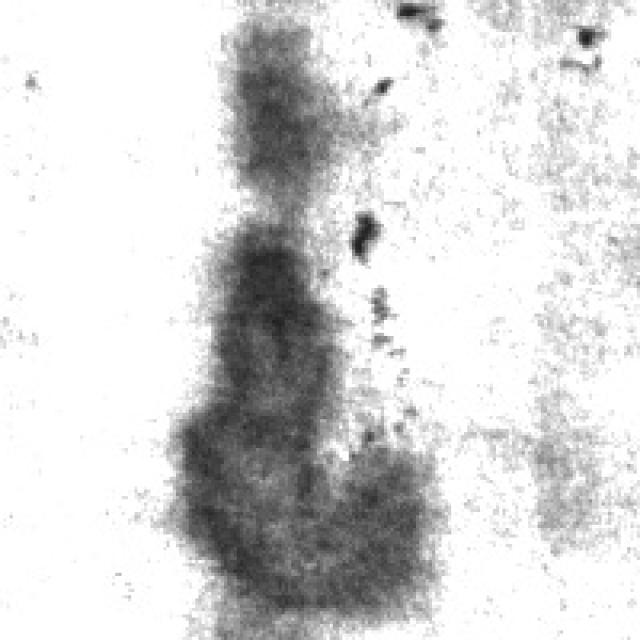patches: (182, 218, 436, 614), (230, 19, 356, 189)
